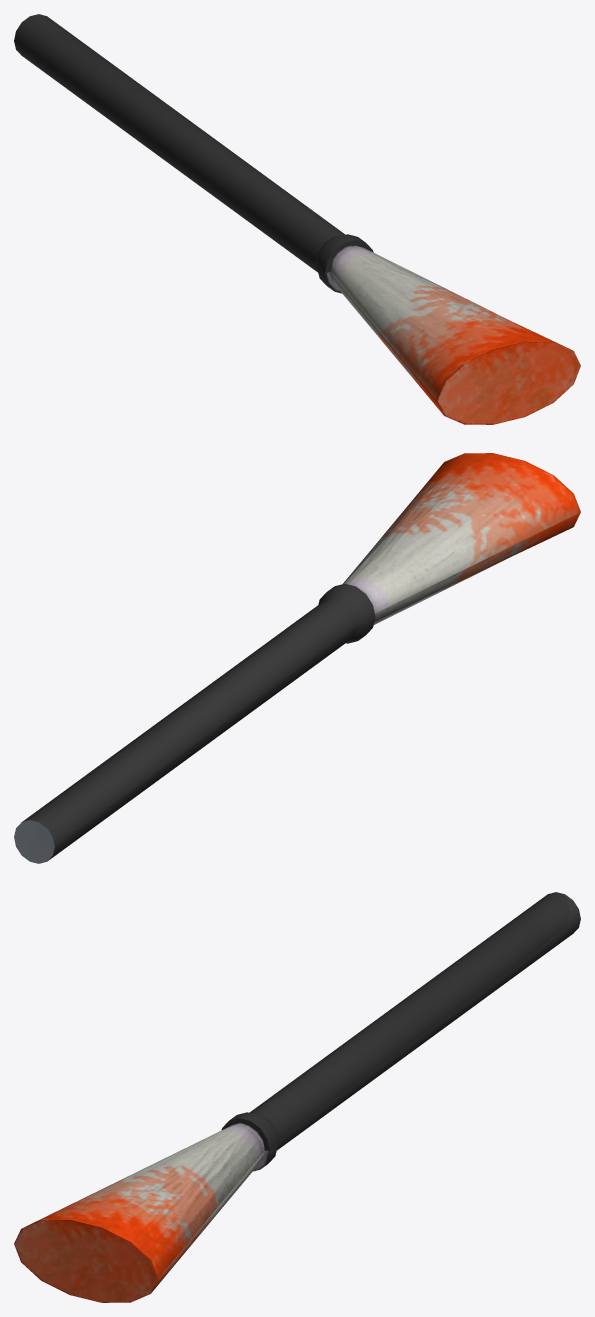
Rendered from fingerprint_brush_red.fbx.
The picture shows the model from 3 angles, top to bottom: view 1: azimuth 30°, elevation 25°; view 2: azimuth 150°, elevation 25°; view 3: azimuth 330°, elevation 25°; orthographic projection.
Parts seen in each view (by area): view 1: fingerprint_kit_01.brush 02.001; view 2: fingerprint_kit_01.brush 02.001; view 3: fingerprint_kit_01.brush 02.001.
Part boxes in pixels (x1,y1,x2,y2): fingerprint_kit_01.brush 02.001: [14, 14, 580, 424]; fingerprint_kit_01.brush 02.001: [14, 453, 580, 863]; fingerprint_kit_01.brush 02.001: [14, 892, 580, 1302].
Size of the model in its own units: 9.37 by 4.68 by 53.52.
